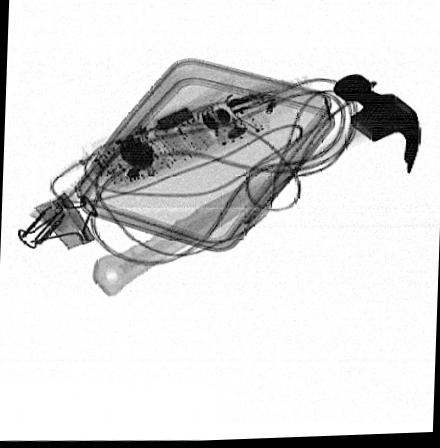Hammer: (90, 76, 419, 298)
